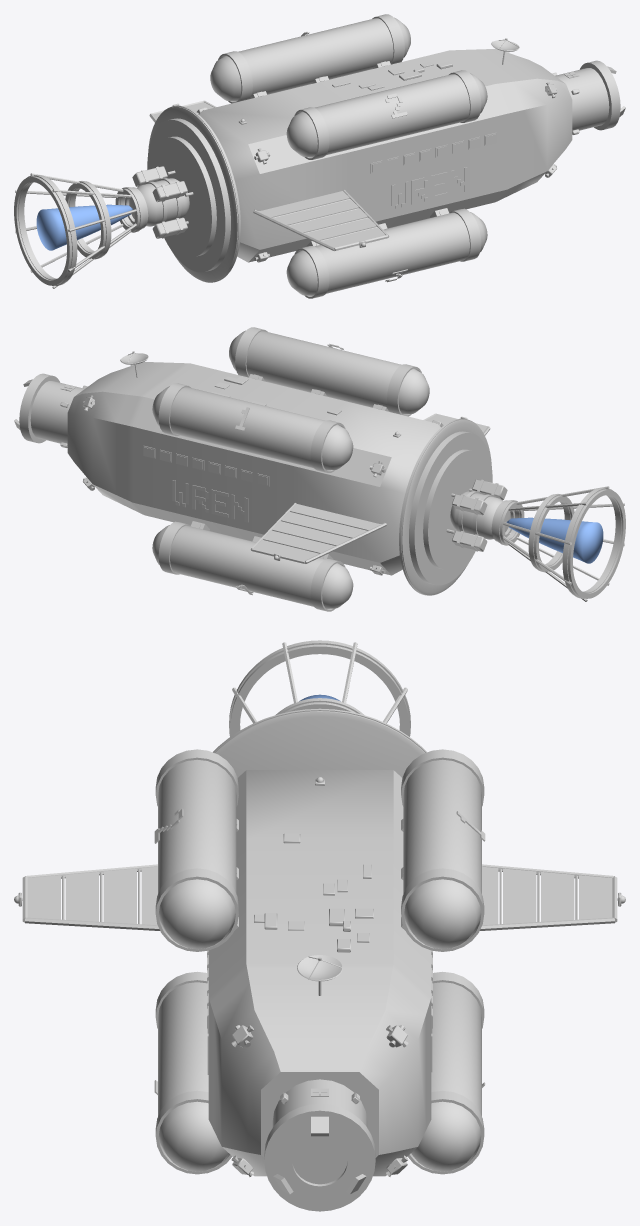
Rendered from PacketShip.fbx.
3 renders of one model, top to bottom at view 1: azimuth 30°, elevation 25°; view 2: azimuth 150°, elevation 25°; view 3: azimuth 270°, elevation 25°, orthographic. The views are drawn at different scales.
Parts seen in each view (by area): view 1: Body, Engine; view 2: Body, Engine; view 3: Body.
Boxes of the visible parts, x1,y1,x2,y2 form: Body: (14, 14, 625, 298); Engine: (36, 204, 133, 250); Body: (14, 327, 625, 611); Engine: (506, 517, 603, 563); Body: (14, 640, 625, 1211).
Size of the model in its own units: 1 by 0.3118 by 0.5773.
